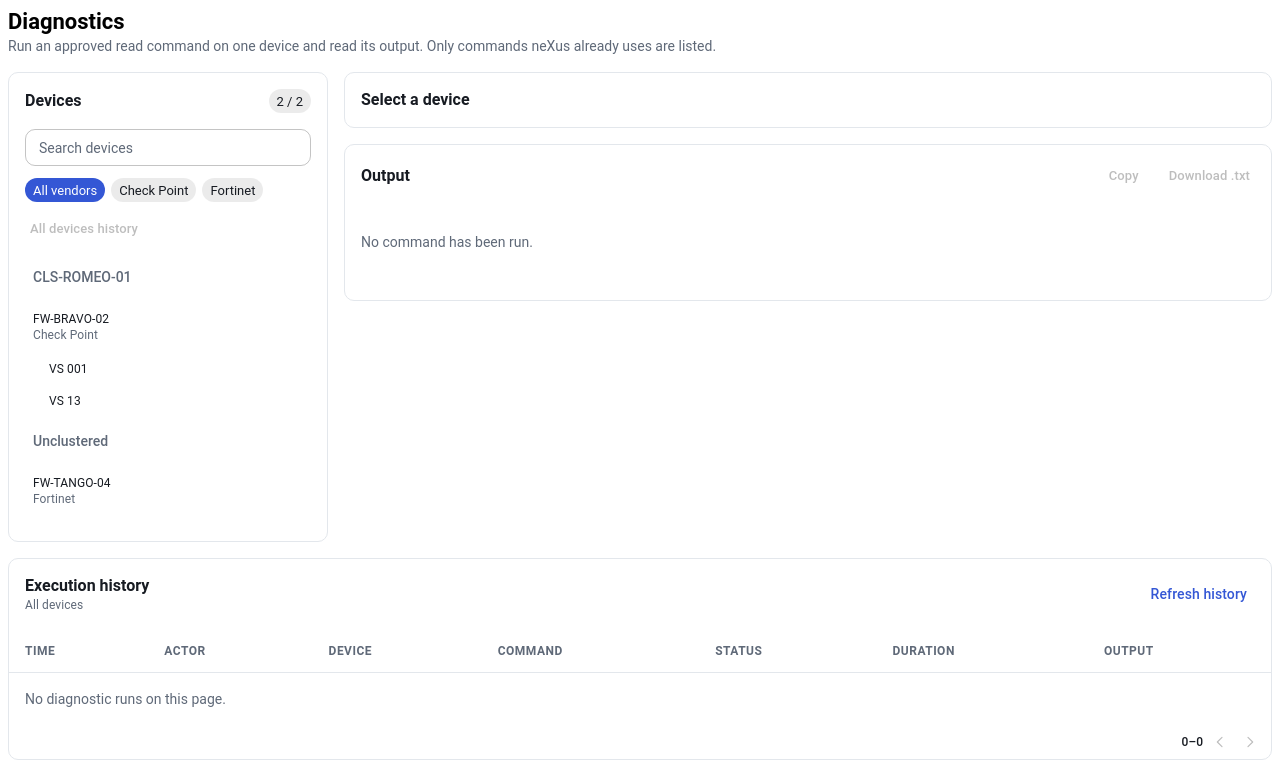
shows queue position while waiting and keeps output actions disabled
Click the button "FW-TANGO-04 Fortinet": click(72, 491) [33,476,111,506]
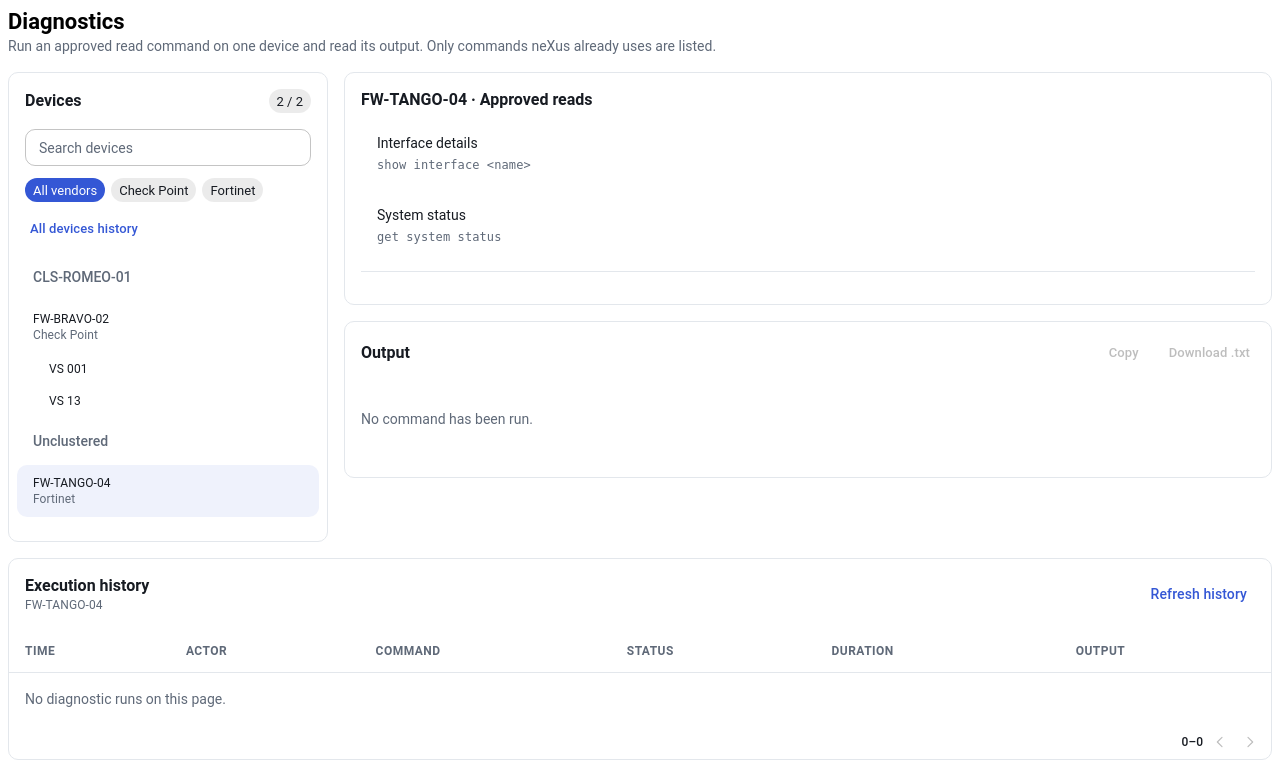
Click the button "System status get system status": click(439, 226) [377,207,502,244]
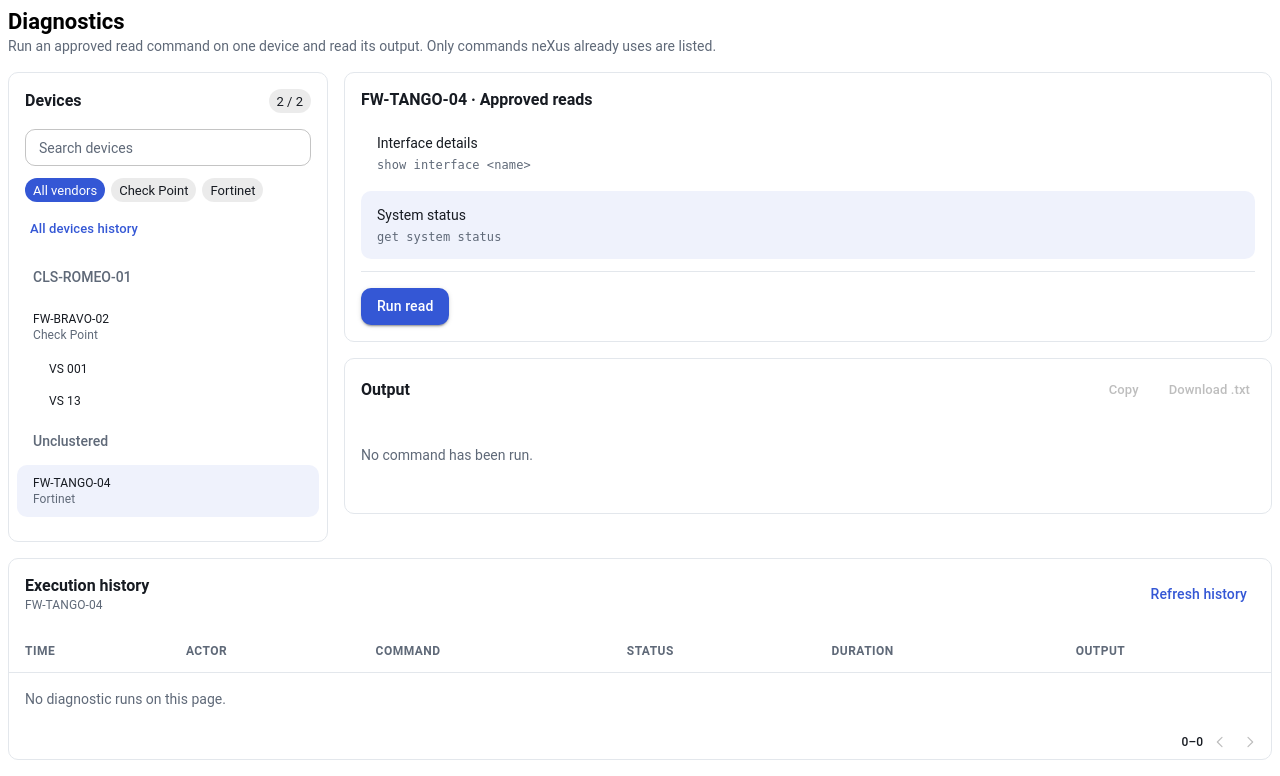
Click the button "Run read": click(405, 306) [361,288,449,324]
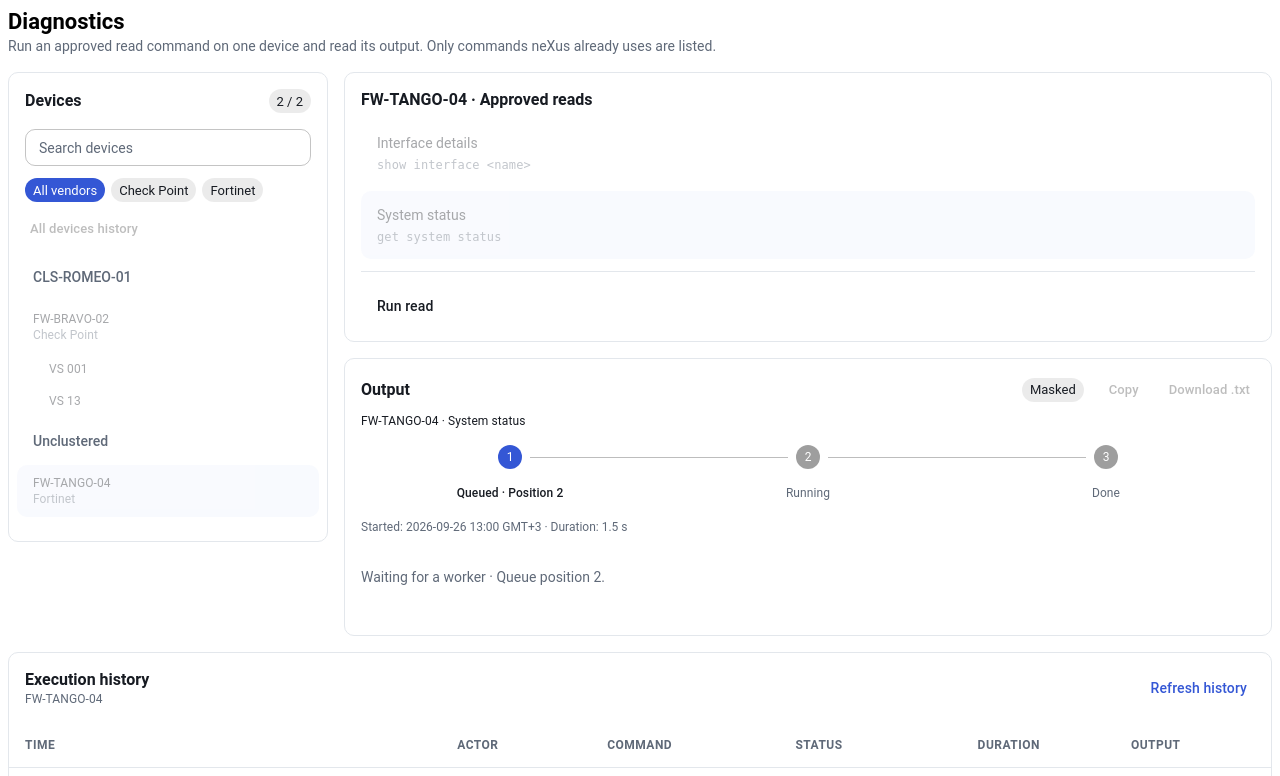
expect the button "Copy" is disabled: met, box [1092,374,1156,405]
expect the text "Queued · Position 2" is shown: met, box [457,486,563,500]
